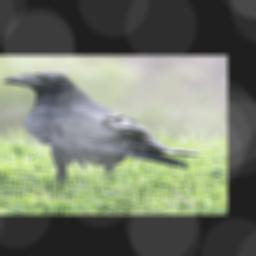Crow: (2, 72, 202, 189)
